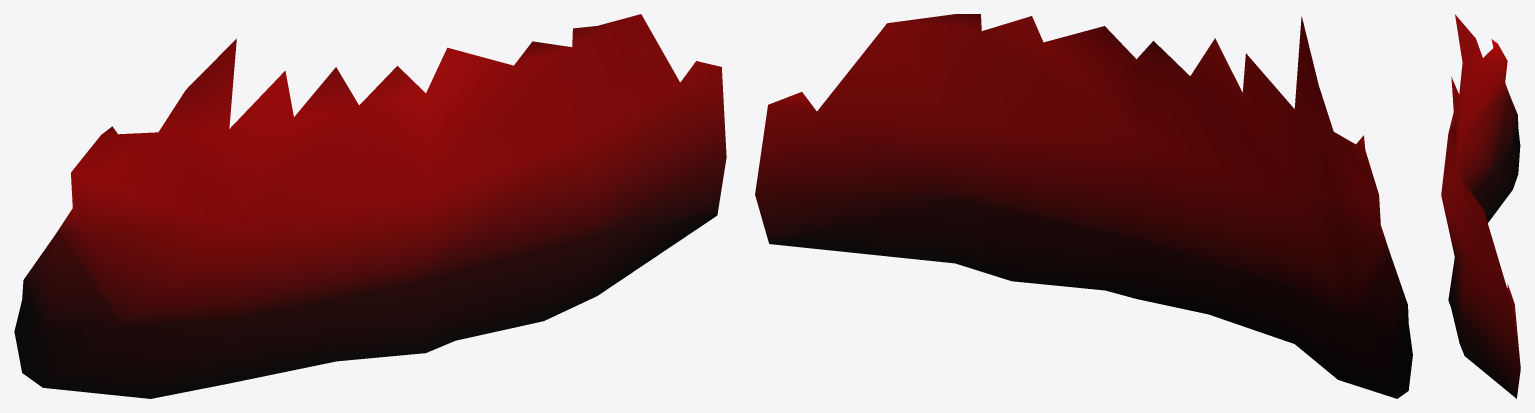
File: bush.FBX
The picture shows the model from 3 angles, left to right: view 1: azimuth 30°, elevation 25°; view 2: azimuth 150°, elevation 25°; view 3: azimuth 270°, elevation 25°; orthographic projection. The views are drawn at different scales.
Visible parts, largest first — view 1: bush; view 2: bush; view 3: bush.
Boxes of the visible parts, bbox=[...] form: bush: bbox=[14, 14, 726, 398]; bush: bbox=[755, 14, 1412, 398]; bush: bbox=[1441, 14, 1520, 398].
Size of the model in its own units: 194 by 94.16 by 29.2.
